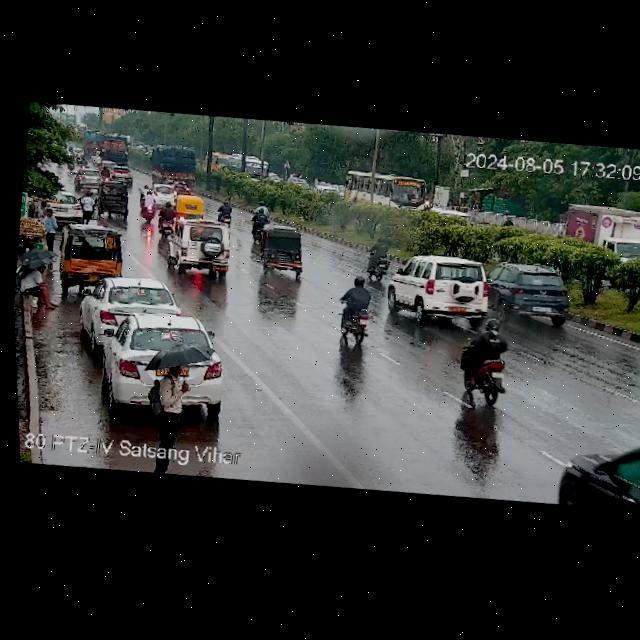bus: (339, 168, 434, 218), (205, 147, 270, 180)
car: (90, 307, 234, 428), (387, 251, 498, 327), (546, 427, 640, 515), (82, 270, 183, 340), (487, 259, 577, 327), (58, 221, 131, 287), (167, 214, 239, 278), (252, 225, 309, 276), (35, 188, 97, 227), (92, 180, 131, 216), (171, 192, 206, 220), (74, 167, 111, 191), (106, 162, 137, 182)
motorcycle: (455, 309, 514, 404), (338, 269, 380, 354), (363, 233, 400, 285), (154, 200, 180, 239), (137, 190, 161, 224), (214, 198, 236, 225), (252, 199, 270, 230)
person: (145, 356, 203, 443), (17, 265, 58, 309), (36, 206, 62, 248), (79, 194, 95, 220)
truck: (561, 199, 640, 279), (147, 141, 204, 189)
